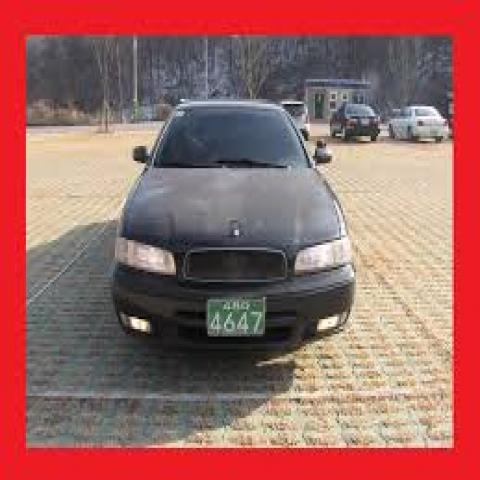LP: (201, 285, 269, 342)
